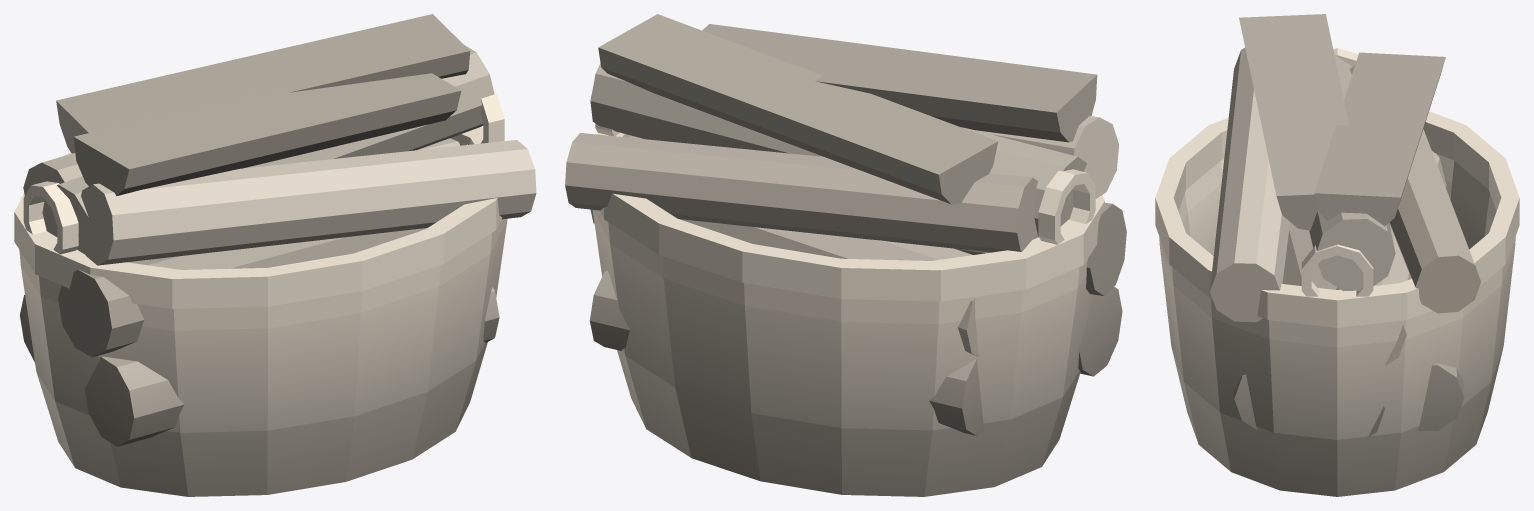
File: SM_VKI_Prop_LogBasket.fbx
3 renders of one model, left to right at view 1: azimuth 30°, elevation 25°; view 2: azimuth 150°, elevation 25°; view 3: azimuth 270°, elevation 25°, orthographic. The views are drawn at different scales.
Visible parts, largest first — view 1: SM_VKI_Prop_LogBasket.001; view 2: SM_VKI_Prop_LogBasket.001; view 3: SM_VKI_Prop_LogBasket.001.
Part boxes in pixels (bbox=[...]): SM_VKI_Prop_LogBasket.001: bbox=[14, 14, 536, 496]; SM_VKI_Prop_LogBasket.001: bbox=[565, 14, 1126, 496]; SM_VKI_Prop_LogBasket.001: bbox=[1155, 14, 1519, 496].
Size of the model in its own units: 0.8 by 0.5637 by 0.6.
